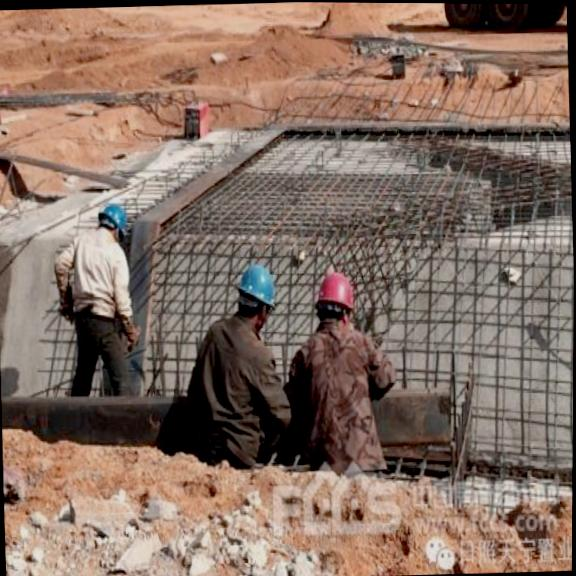no_safety_vest: (195, 316, 272, 457), (304, 323, 378, 465), (71, 232, 127, 317)
